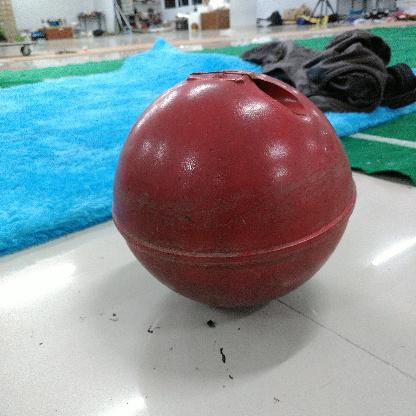red_buoy: (113, 67, 357, 314)
